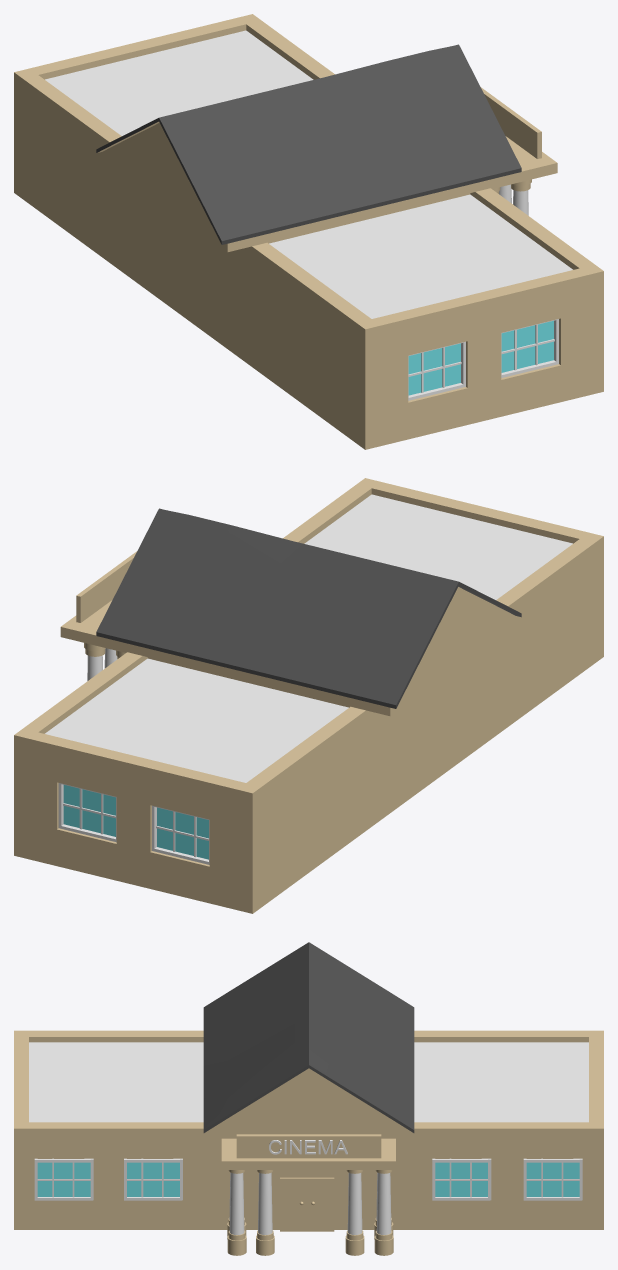
Rendered from 1dd41630-3e95-45aa-abd9-a145ea9cac57.glb.
The picture shows the model from 3 angles, top to bottom: view 1: azimuth 30°, elevation 25°; view 2: azimuth 150°, elevation 25°; view 3: azimuth 270°, elevation 25°; orthographic projection. The views are drawn at different scales.
Visible parts, largest first — view 1: Box108, Object010, Object011, Box119, Box106; view 2: Box108, Object012, Object014, Box119, Box106; view 3: Box108, Box119, Box117, Box106, Object013, Object016, Object015, Object017, Box099, Box104, Box105, Box100 (+6 smaller).
Boxes of the visible parts, x1,y1,x2,y2 form: Box108: (14,14,603,449); Object010: (408,343,460,395); Object011: (501,320,553,372); Box119: (480,87,541,158); Box106: (491,136,557,188); Box108: (14,478,603,913); Object012: (63,785,115,836); Object014: (157,807,208,859); Box119: (76,551,137,622); Box106: (60,600,126,652); Box108: (14,942,603,1229); Box119: (236,1134,381,1158); Box117: (280,1177,334,1231); Box106: (221,1138,395,1169); Object013: (37,1162,90,1196); Object016: (526,1162,579,1196); Object015: (127,1162,179,1196); Object017: (435,1162,487,1196); Box099: (34,1158,93,1200); Box104: (523,1158,582,1200); Box105: (432,1158,491,1200); Box100: (124,1158,182,1200).
Bounding box in the file's own units: 47284 × 27914 × 83009.
